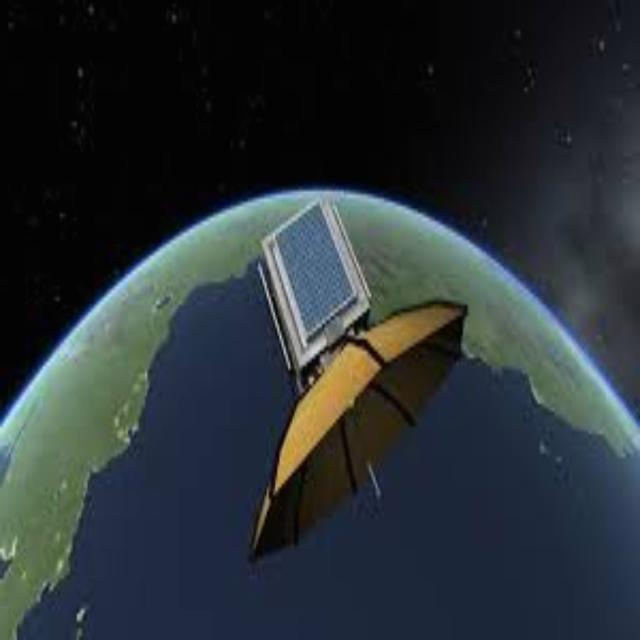medium_debris: (240, 194, 470, 572)
